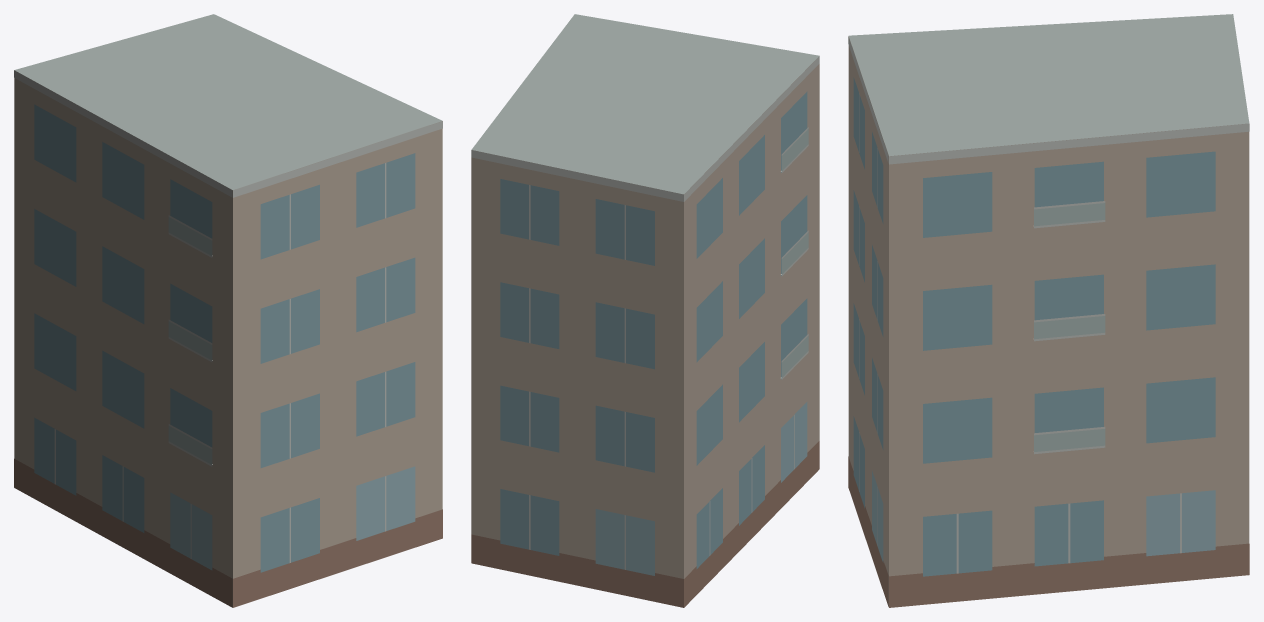
Rendered from survey-upis-32464091.glb.
The picture shows the model from 3 angles, left to right: view 1: azimuth 30°, elevation 25°; view 2: azimuth 150°, elevation 25°; view 3: azimuth 270°, elevation 25°; orthographic projection. The views are drawn at different scales.
Parts seen in each view (by area): view 1: survey-upis-32464091.tmp; view 2: survey-upis-32464091.tmp; view 3: survey-upis-32464091.tmp.
Boxes of the visible parts, x1,y1,x2,y2 form: survey-upis-32464091.tmp: (14,14,442,607); survey-upis-32464091.tmp: (471,14,819,607); survey-upis-32464091.tmp: (848,14,1249,607).
Bounding box in the file's own units: 8.99 × 13.3 × 10.71.
